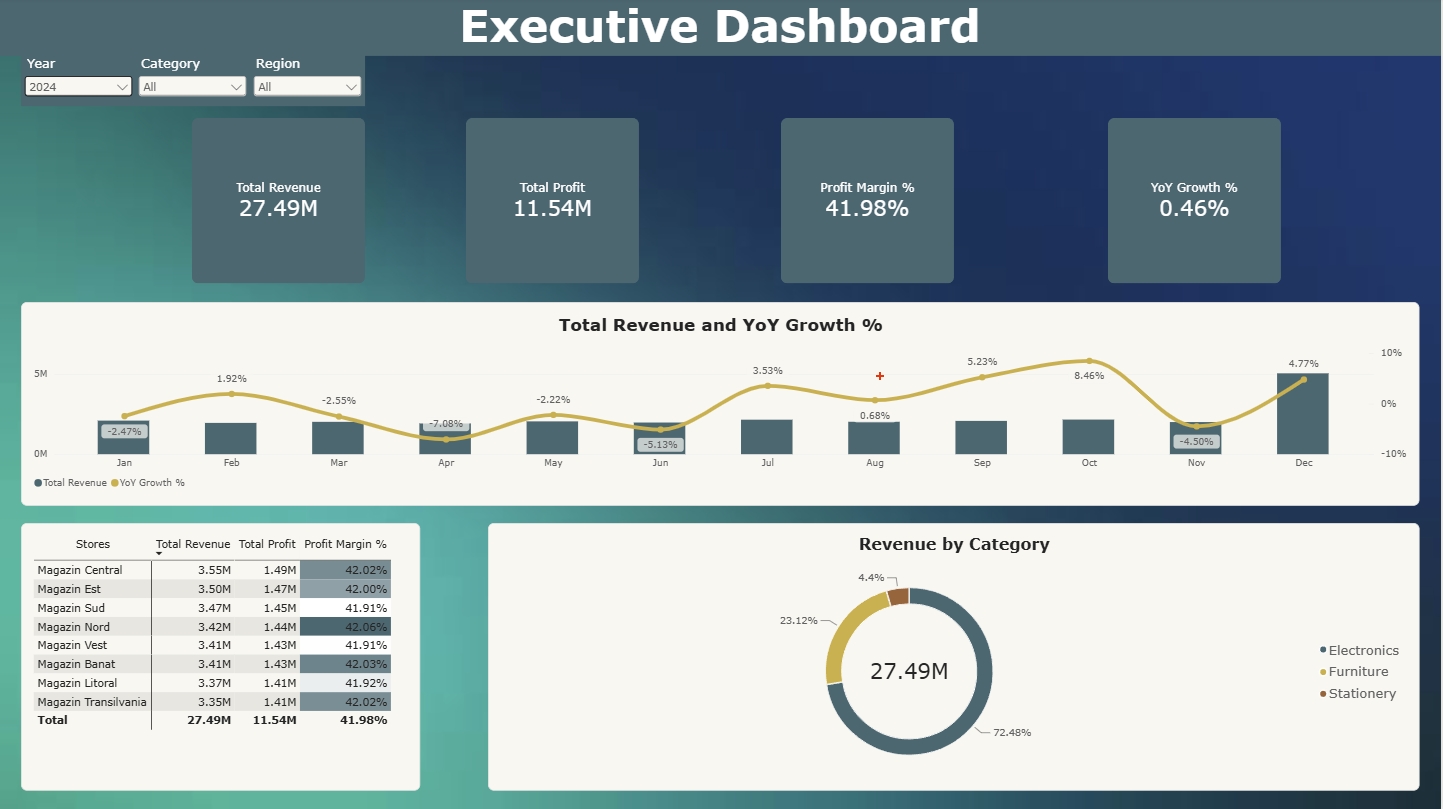

What the dashboard file says about the page in this screenshot:
{"tool":"powerbi","page":{"name":"Page 1","canvas":[1920,1080],"ordinal":0},"visuals":[{"type":"slicer","fields":{"Values":["Calendar.Year"]},"box":[30,75.2,152.9,68],"z":4000},{"type":"slicer","fields":{"Values":["public products.category"]},"box":[182.8,75.2,152.9,68],"z":5000},{"type":"slicer","fields":{"Values":["public stores.region"]},"box":[335.5,75.2,152.7,68],"z":6000},{"type":"cardVisual","fields":{"Data":["public sales.Profit Margin %"]},"box":[1041.4,160,230,220],"z":7000},{"type":"cardVisual","fields":{"Data":["public sales.Total Revenue"]},"box":[258.6,160,230,220],"z":8000},{"type":"cardVisual","fields":{"Data":["public sales.Total Profit"]},"box":[622.9,160,230,220],"z":9000},{"type":"cardVisual","fields":{"Data":["public sales.YoY Growth %"]},"box":[1475.7,160,230,220],"z":10000},{"type":"lineClusteredColumnComboChart","title":"Total Revenue and YoY Growth %","fields":{"Category":["Calendar.Month Name"],"Y":["public sales.Total Revenue"],"Y2":["public sales.YoY Growth %"]},"box":[30,404.3,1860,271.4],"z":11000},{"type":"donutChart","title":"Revenue by Category","fields":{"Category":["public products.category"],"Y":["public sales.Total Revenue"]},"box":[651.4,698.6,1238.6,355.7],"z":12000},{"type":"pivotTable","fields":{"Rows":["public stores.store_name"],"Values":["public sales.Total Revenue","public sales.Total Profit","public sales.Profit Margin %"]},"box":[30,698.6,531,356],"z":13000},{"type":"textbox","box":[0,0,1920.6,77.1],"z":14000}]}

Visuals, with their boxes in screenshot pixels (x1, y1, x2, y2), scaled from the page's 1920x1080 canvas onto the 1443x809 screenshot:
slicer - Calendar.Year: box=[23, 56, 137, 107]
slicer - public products.category: box=[137, 56, 252, 107]
slicer - public stores.region: box=[252, 56, 367, 107]
cardVisual - public sales.Profit Margin %: box=[783, 120, 956, 285]
cardVisual - public sales.Total Revenue: box=[194, 120, 367, 285]
cardVisual - public sales.Total Profit: box=[468, 120, 641, 285]
cardVisual - public sales.YoY Growth %: box=[1109, 120, 1282, 285]
"Total Revenue and YoY Growth %" lineClusteredColumnComboChart: box=[23, 303, 1420, 506]
"Revenue by Category" donutChart: box=[490, 523, 1420, 790]
pivotTable - public stores.store_name x public sales.Total Revenue: box=[23, 523, 422, 790]
textbox: box=[0, 0, 1442, 58]
